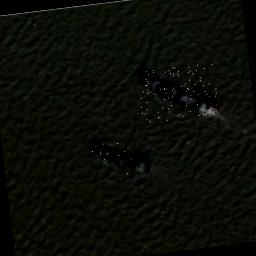boat: (136, 62, 219, 124), (90, 136, 152, 178)
